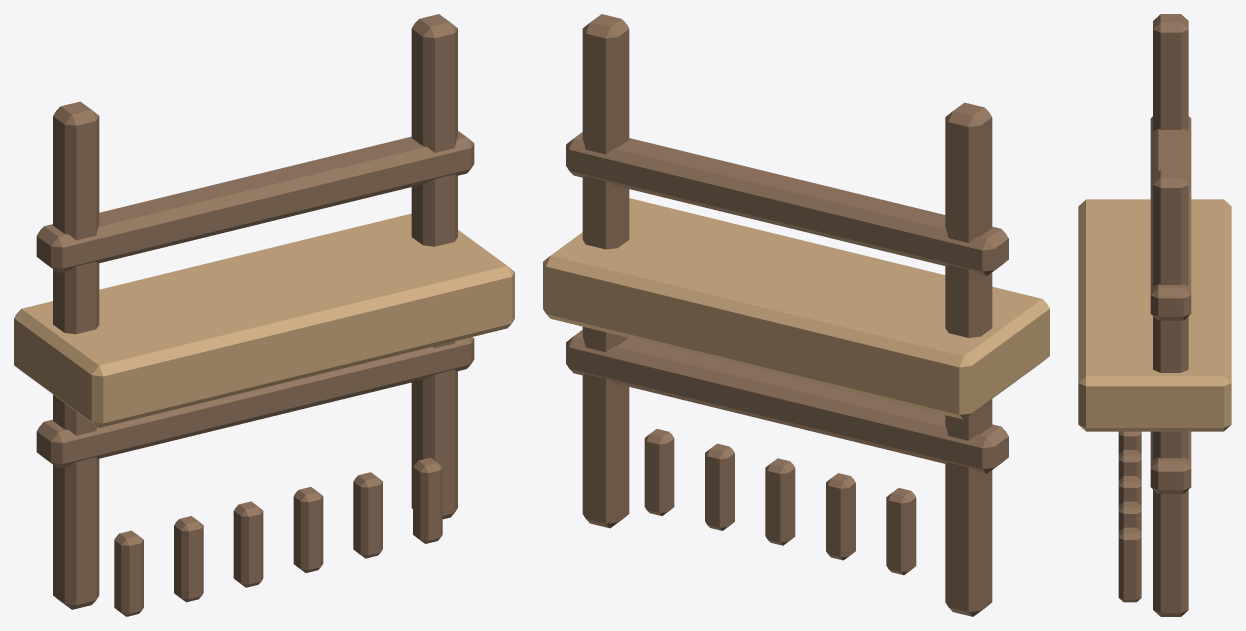
Rendered from town_weapon_rack.glb.
3 renders of one model, left to right at view 1: azimuth 30°, elevation 25°; view 2: azimuth 150°, elevation 25°; view 3: azimuth 270°, elevation 25°, orthographic. The views are drawn at different scales.
Visible parts, largest first — view 1: world; view 2: world; view 3: world.
Boxes of the visible parts, left/top/right/bottom form: world: left=14, top=14, right=514, bottom=616; world: left=543, top=14, right=1049, bottom=616; world: left=1078, top=14, right=1231, bottom=616.
Size of the model in its own units: 1.79 by 2 by 0.6316.
